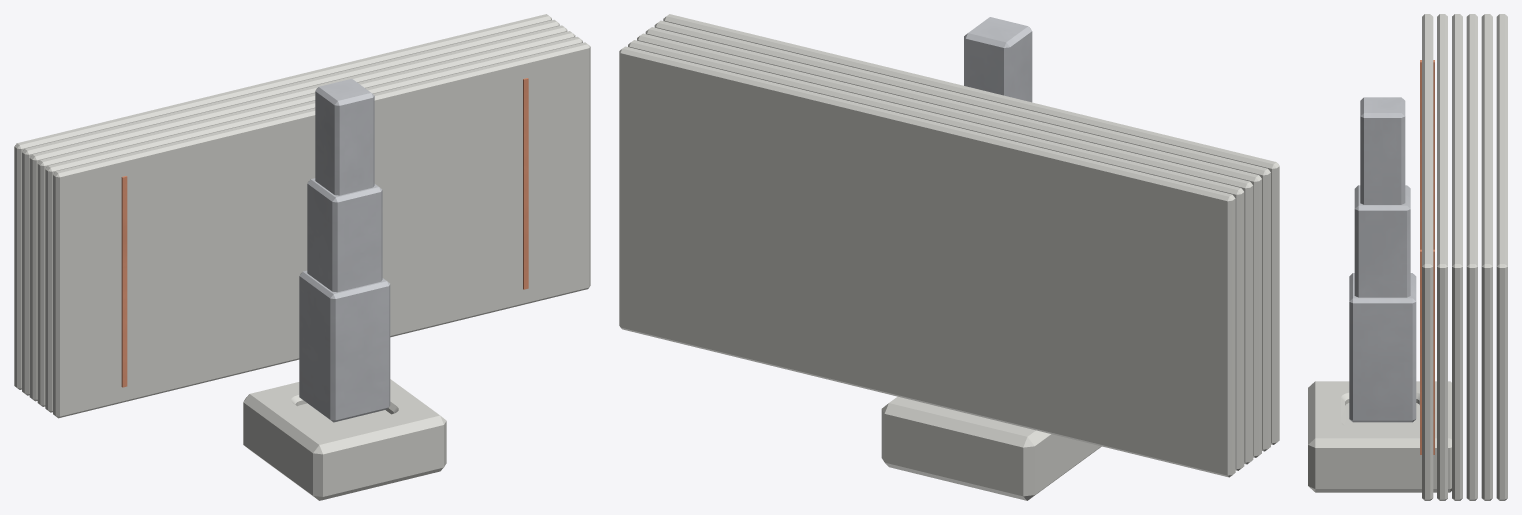
The model's file is ax_power_09_heat_pipe_boom_l.glb.
3 renders of one model, left to right at view 1: azimuth 30°, elevation 25°; view 2: azimuth 150°, elevation 25°; view 3: azimuth 270°, elevation 25°, orthographic. The views are drawn at different scales.
Visible parts, largest first — view 1: panel_1, boom, mount_block, panel_4, panel_5, panel_6, panel_3, panel_2, heat_pipes; view 2: panel_6, mount_block, panel_4, panel_5, panel_3, panel_2, panel_1, boom; view 3: boom, mount_block, panel_1, panel_4, panel_5, panel_6, panel_2, panel_3, heat_pipes.
Part boxes in pixels (x1,y1,x2,y2): panel_1: [53, 42, 590, 418]; boom: [299, 78, 390, 422]; mount_block: [243, 379, 446, 500]; panel_4: [29, 25, 567, 401]; panel_5: [22, 19, 559, 395]; panel_6: [14, 14, 551, 389]; panel_3: [37, 31, 575, 406]; panel_2: [45, 36, 582, 412]; heat_pipes: [121, 78, 528, 387]; panel_6: [619, 46, 1235, 477]; mount_block: [881, 396, 1101, 500]; panel_4: [637, 33, 1253, 464]; panel_5: [628, 40, 1244, 470]; panel_3: [645, 27, 1261, 457]; panel_2: [654, 20, 1270, 451]; panel_1: [663, 14, 1279, 444]; boom: [964, 17, 1032, 102]; boom: [1349, 97, 1416, 422]; mount_block: [1308, 381, 1451, 492]; panel_1: [1422, 14, 1433, 500]; panel_4: [1466, 14, 1477, 500]; panel_5: [1481, 14, 1492, 500]; panel_6: [1496, 14, 1507, 500]; panel_2: [1437, 14, 1447, 500]; panel_3: [1452, 14, 1462, 500]; heat_pipes: [1420, 60, 1434, 454].
Bounding box in the file's own units: 1.6 × 1.06 × 0.535.
3 materials, 2 textured.
